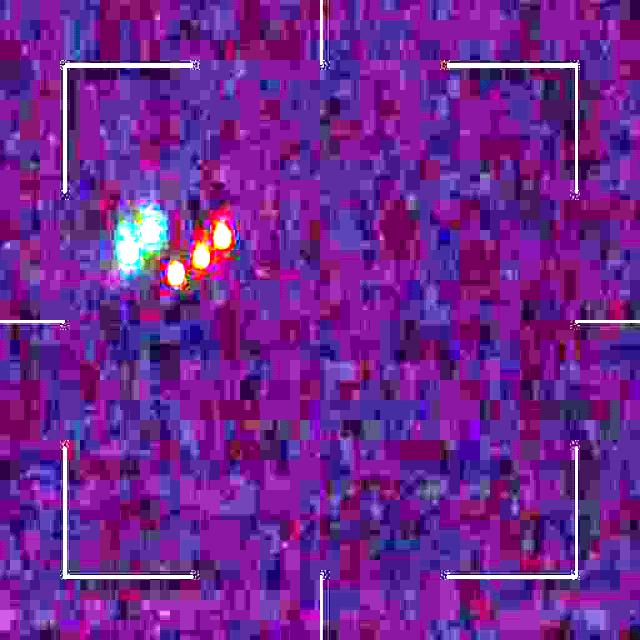bird: (119, 212, 232, 282)
